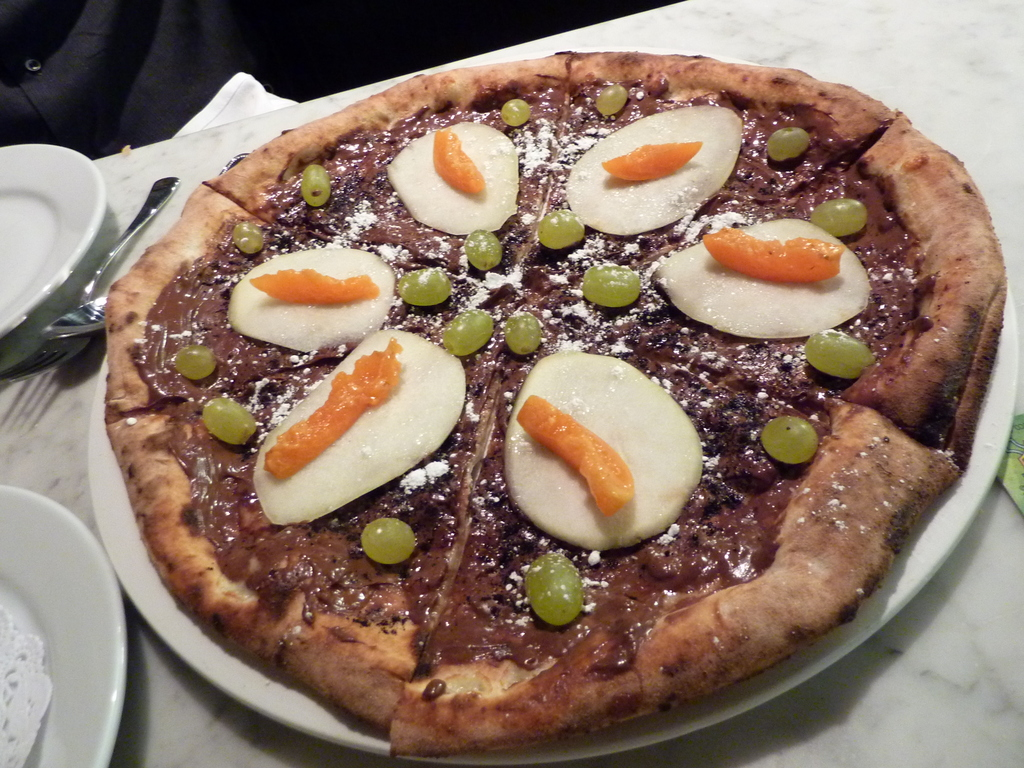Pizza: (126, 28, 998, 727)
